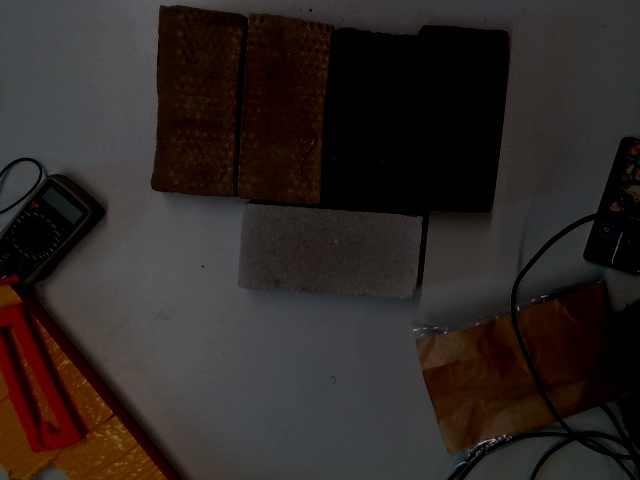brick: (405, 28, 509, 212), (238, 203, 420, 302), (237, 19, 332, 201), (323, 30, 417, 213), (152, 9, 243, 197)
